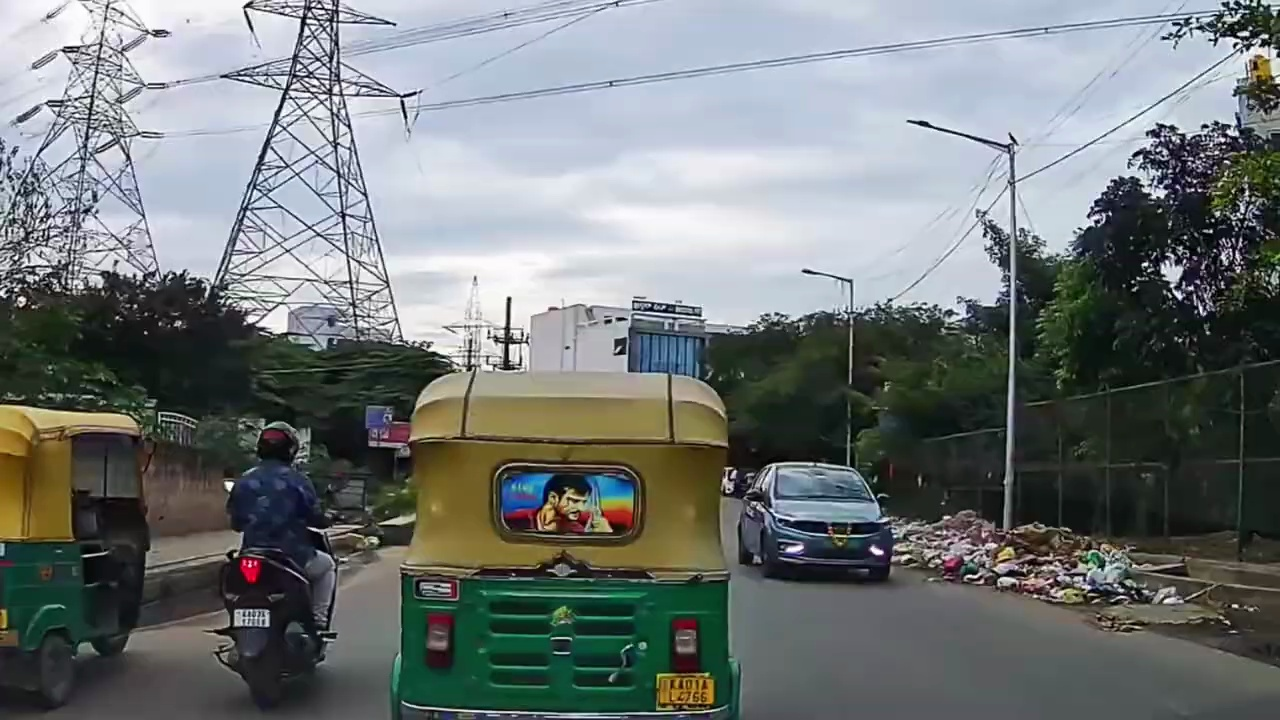garbage: (929, 512, 1106, 601)
